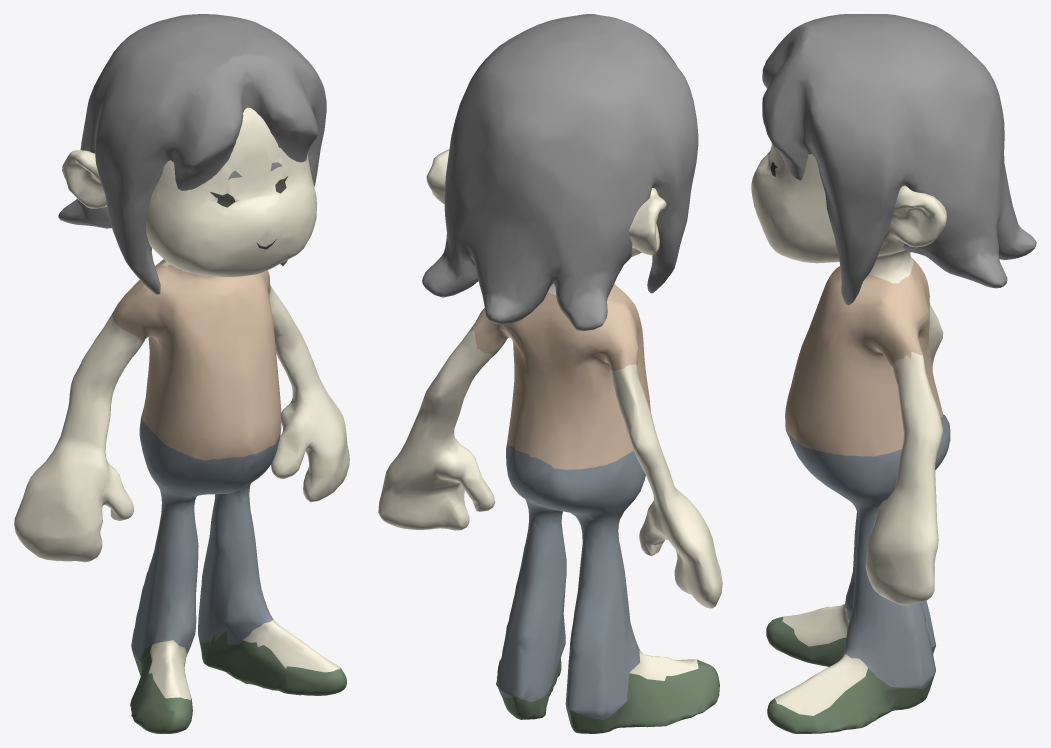
File: yellow.fbx
The picture shows the model from 3 angles, left to right: view 1: azimuth 30°, elevation 25°; view 2: azimuth 150°, elevation 25°; view 3: azimuth 270°, elevation 25°; orthographic projection. The views are drawn at different scales.
Visible parts, largest first — view 1: PM3D_Sphere3D2; view 2: PM3D_Sphere3D2; view 3: PM3D_Sphere3D2.
Boxes of the visible parts, left/top/right/bottom form: PM3D_Sphere3D2: left=14, top=14, right=349, bottom=733; PM3D_Sphere3D2: left=378, top=14, right=722, bottom=733; PM3D_Sphere3D2: left=751, top=14, right=1036, bottom=733.
Size of the model in its own units: 5.05 by 9.69 by 3.76.
